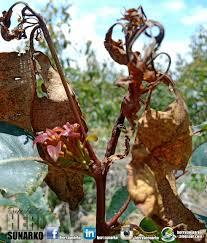Helopeltis-Withered Sprout: (97, 133, 135, 172), (142, 50, 174, 91), (123, 6, 153, 37), (98, 42, 129, 65), (0, 5, 17, 44), (12, 22, 24, 40), (137, 4, 150, 18), (21, 6, 34, 18), (36, 29, 44, 41), (144, 29, 153, 39)
